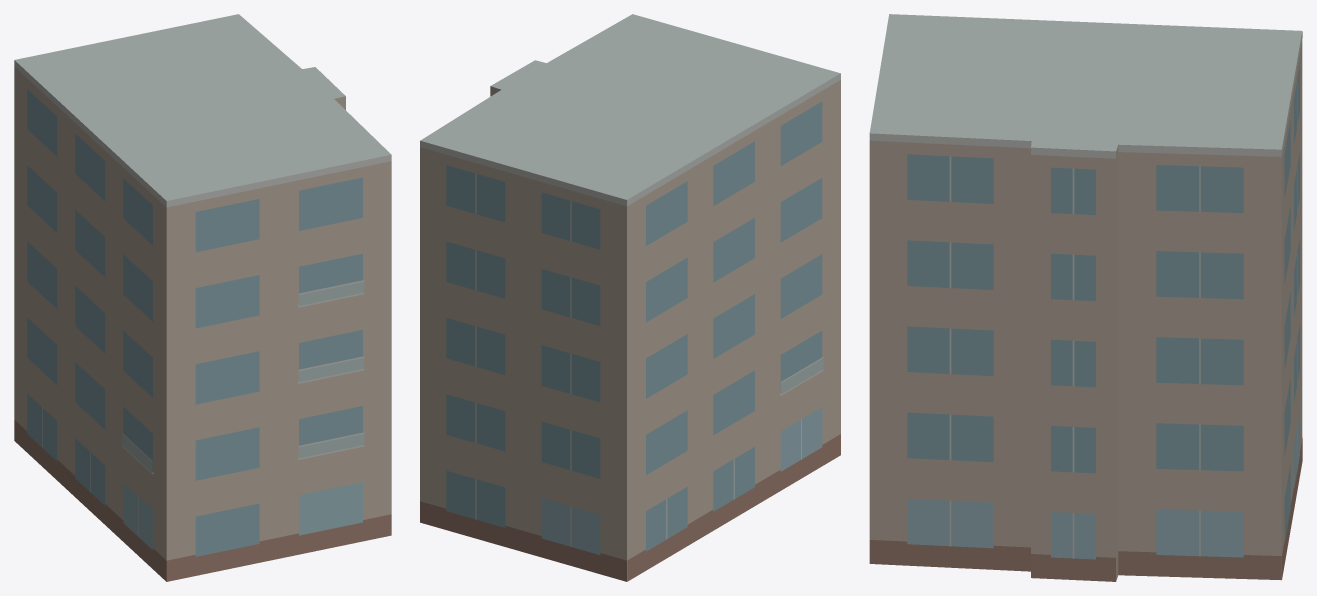
Rendered from survey-upis-32978138.glb.
The picture shows the model from 3 angles, left to right: view 1: azimuth 30°, elevation 25°; view 2: azimuth 150°, elevation 25°; view 3: azimuth 270°, elevation 25°; orthographic projection. The views are drawn at different scales.
Parts seen in each view (by area): view 1: survey-upis-32978138.tmp; view 2: survey-upis-32978138.tmp; view 3: survey-upis-32978138.tmp.
Boxes of the visible parts, x1,y1,x2,y2 form: survey-upis-32978138.tmp: (14,14,391,581); survey-upis-32978138.tmp: (420,14,840,581); survey-upis-32978138.tmp: (869,14,1302,581).
Size of the model in its own units: 9.94 by 14.5 by 13.22.
